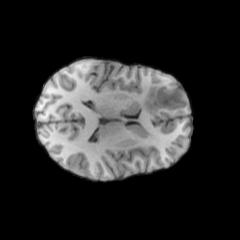glioma: (144, 84, 188, 116)
